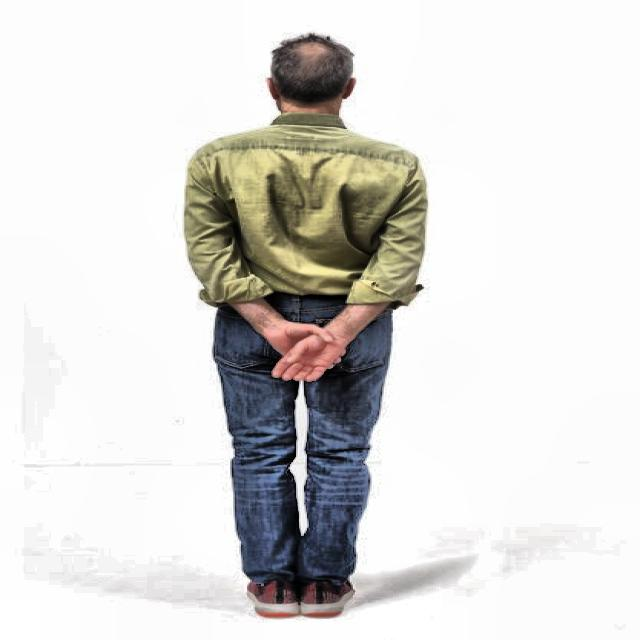Human: (167, 37, 513, 640)
